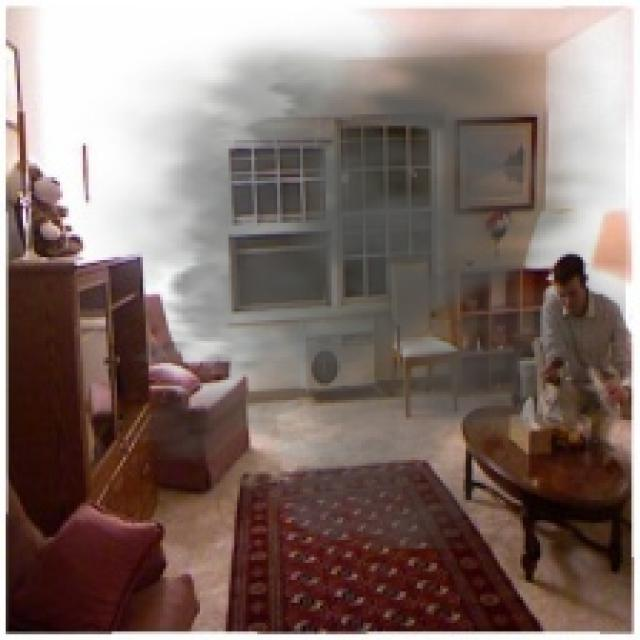smoke: (71, 3, 626, 548)
